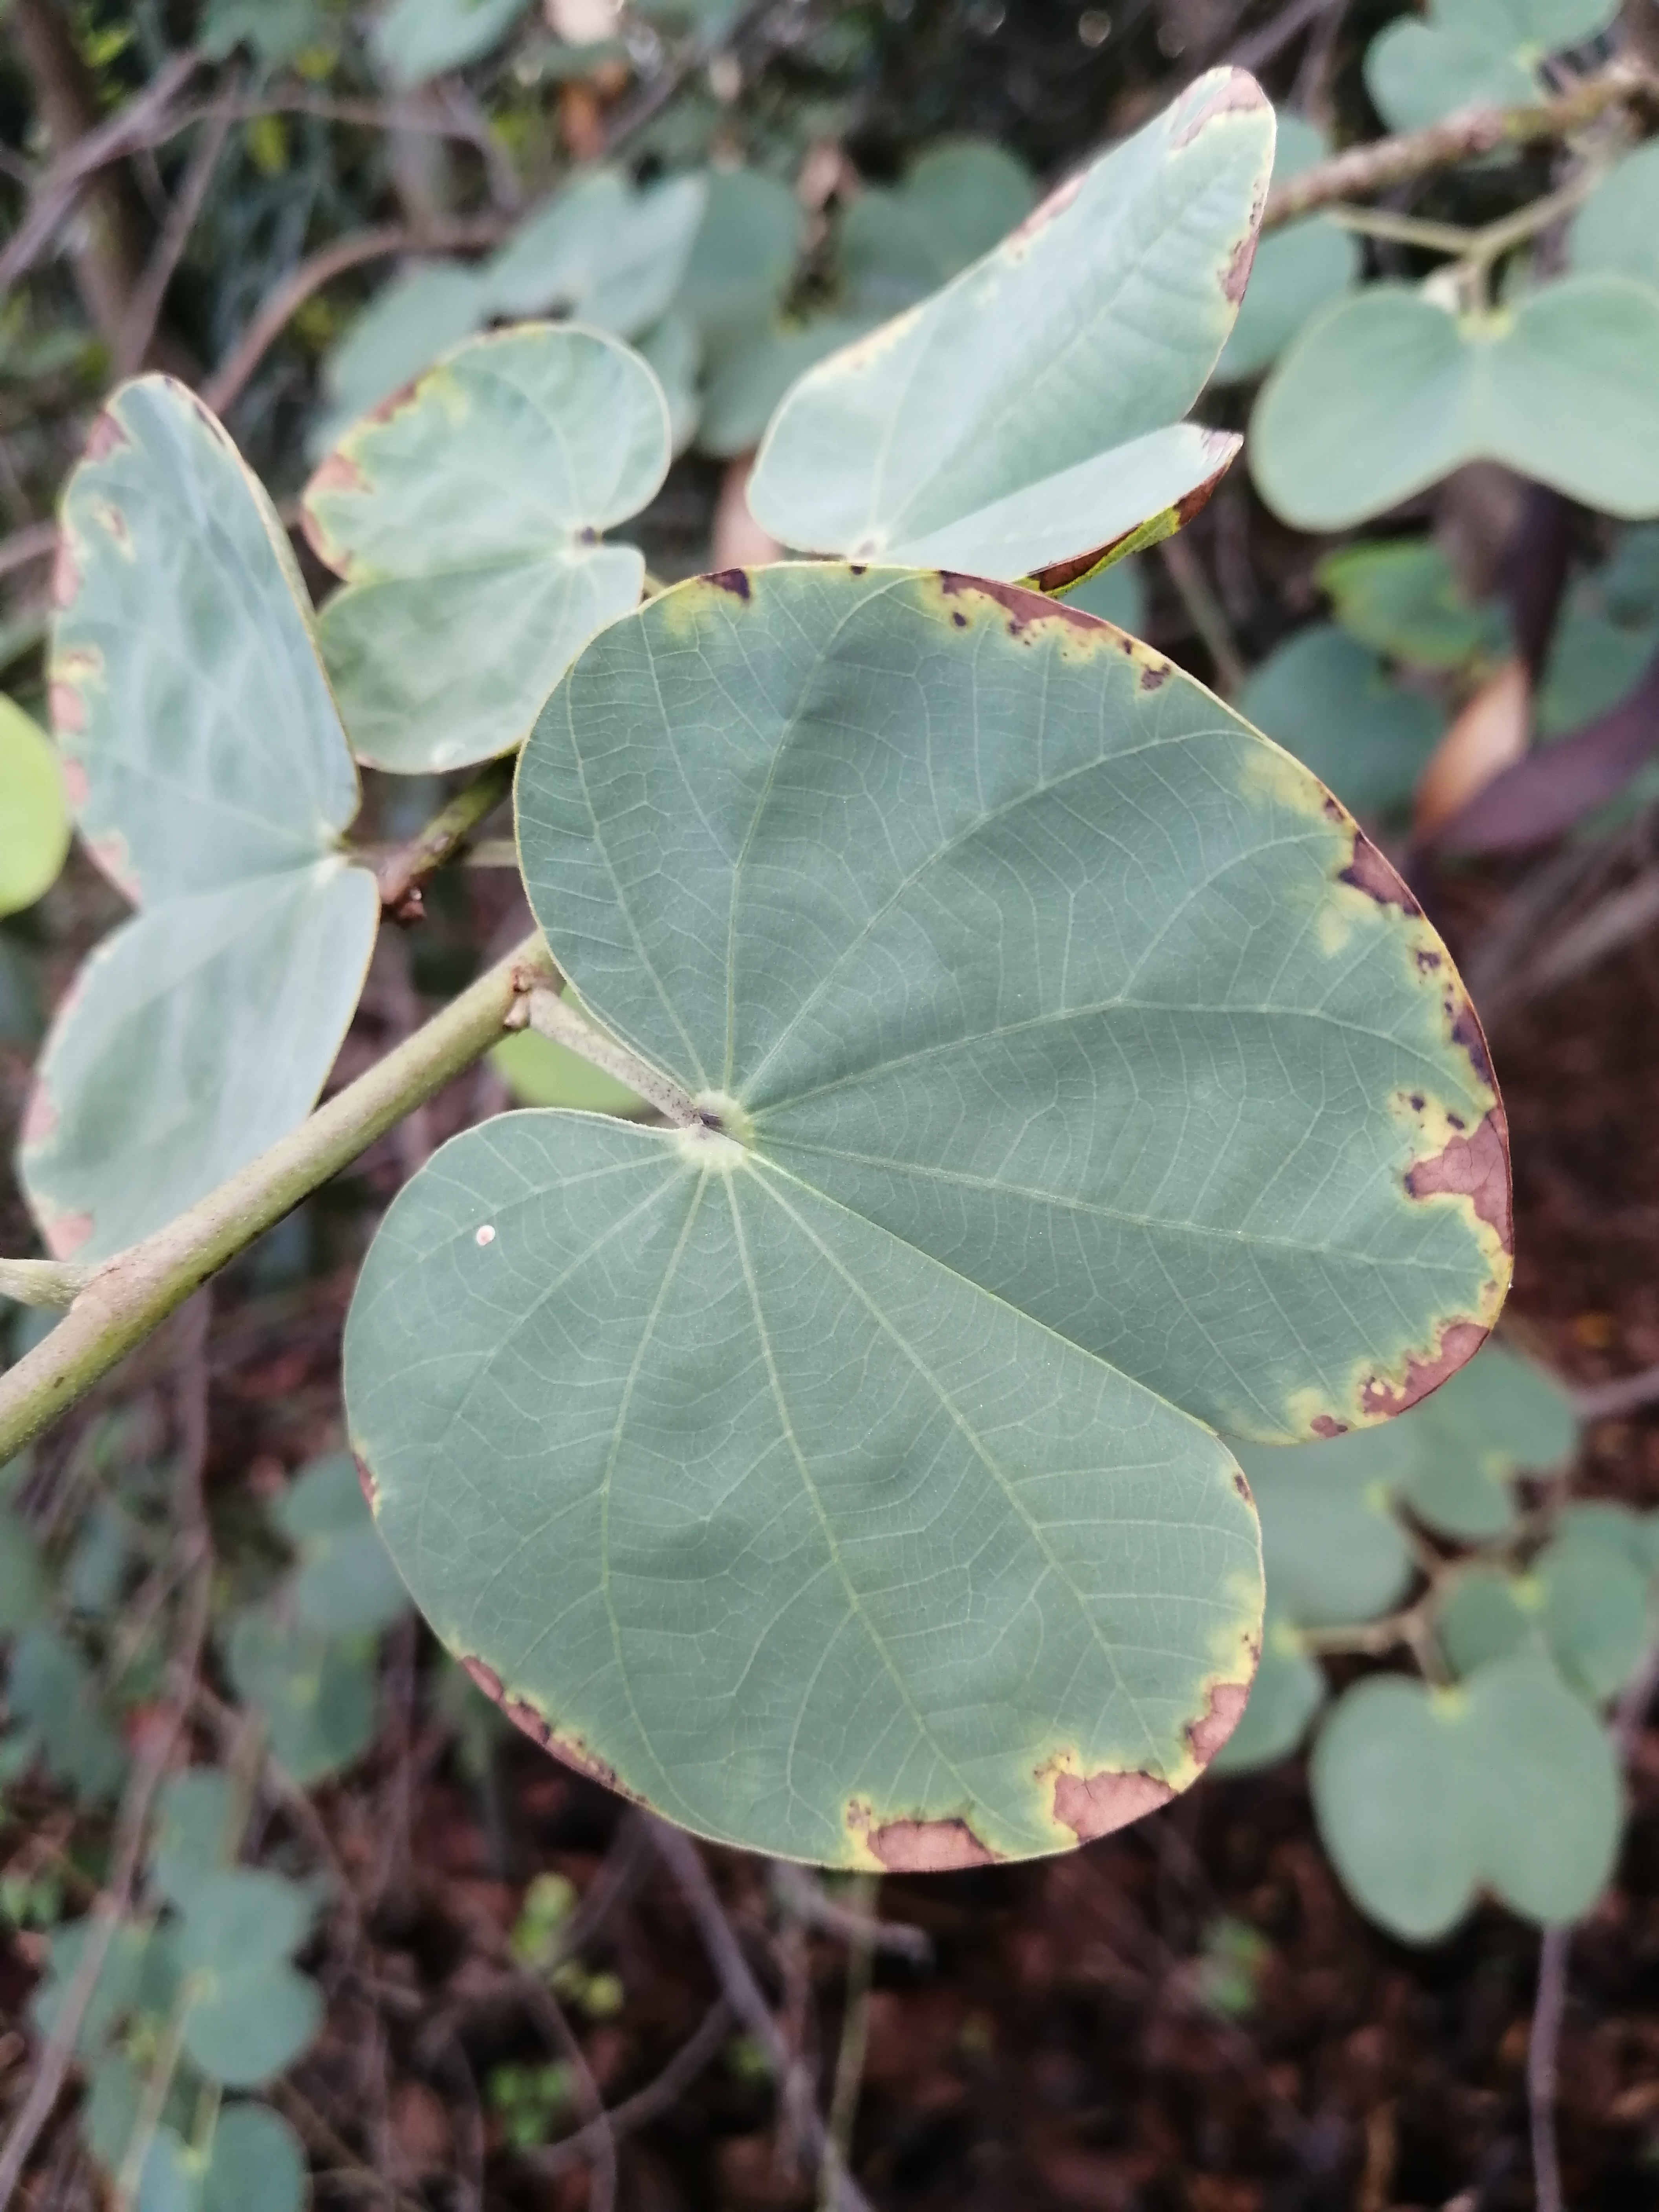nothealthy: (333, 542, 1530, 1926), (305, 303, 683, 782)
